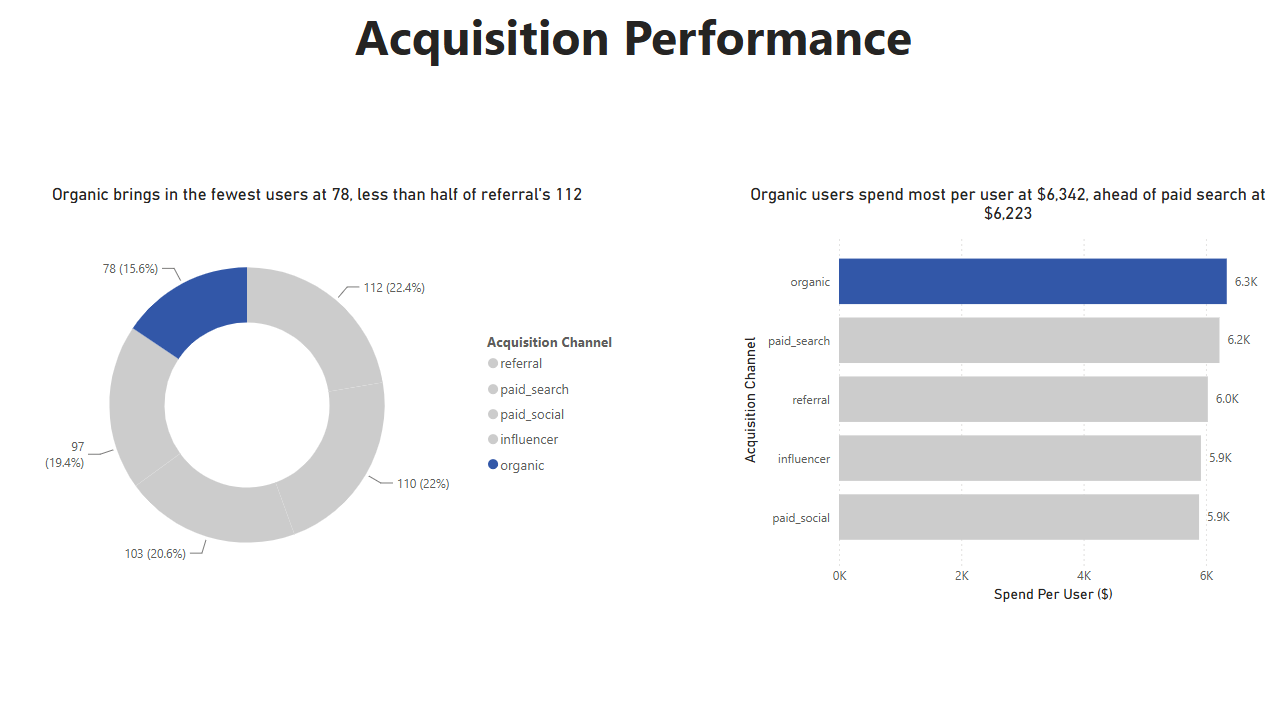

What the dashboard file says about the page in this screenshot:
{"tool":"powerbi","page":{"name":"Acquisition Performance","canvas":[1280,720],"ordinal":2},"visuals":[{"type":"clusteredBarChart","title":"Organic users spend most per user at $6,342, ahead of paid search at $6,223","fields":{"Category":["acquisition_performance.acquisition_channel"],"Y":["Sum(acquisition_performance.spend_per_user)"]},"box":[738.4,185.9,541.6,422.7],"z":0},{"type":"donutChart","title":"Organic brings in the fewest users at 78, less than half of referral''s 112","fields":{"Category":["acquisition_performance.acquisition_channel"],"Y":["Sum(acquisition_performance.total_users)"]},"box":[2.9,185.8,630.3,423.1],"z":1000},{"type":"textbox","box":[351,0,577.6,87.8],"z":2000}]}

Visuals, with their boxes in screenshot pixels (x1, y1, x2, y2), scaled from the page's 1280x720 canvas onto the 1277x716 screenshot:
"Organic users spend most per user at $6,342, ahead of paid search at $6,223" clusteredBarChart: x1=737 y1=185 x2=1276 y2=605
"Organic brings in the fewest users at 78, less than half of referral''s 112" donutChart: x1=3 y1=185 x2=632 y2=606
textbox: x1=350 y1=0 x2=926 y2=87
